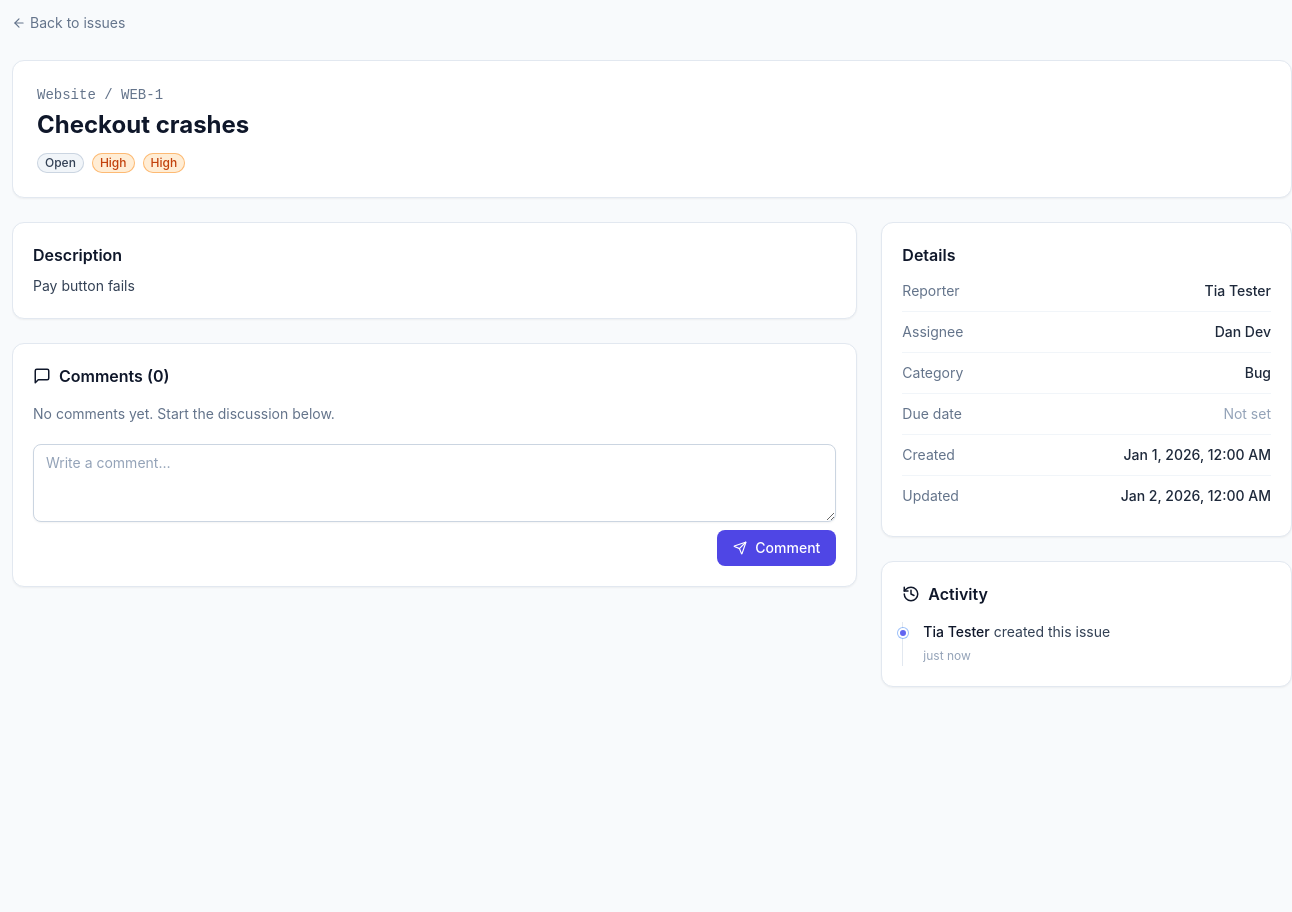
Issue details page respects capabilities › posting a comment appends it
This screenshot has width=1292, height=912.
In the text box named "Add a comment": (435, 483) [33,444,836,522], type "Looking into it"
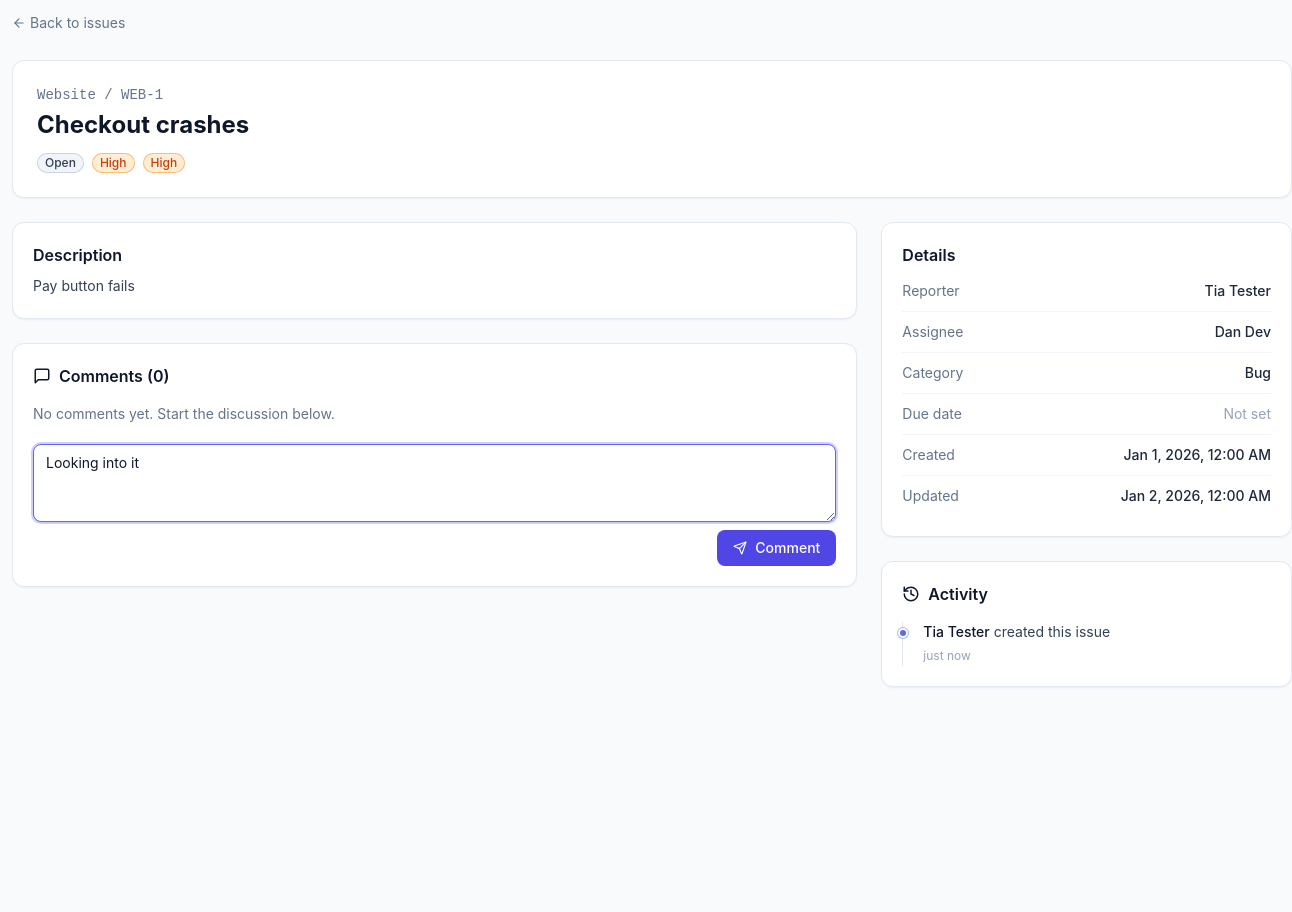
Click the button "Comment": click(777, 548) [717,530,836,566]
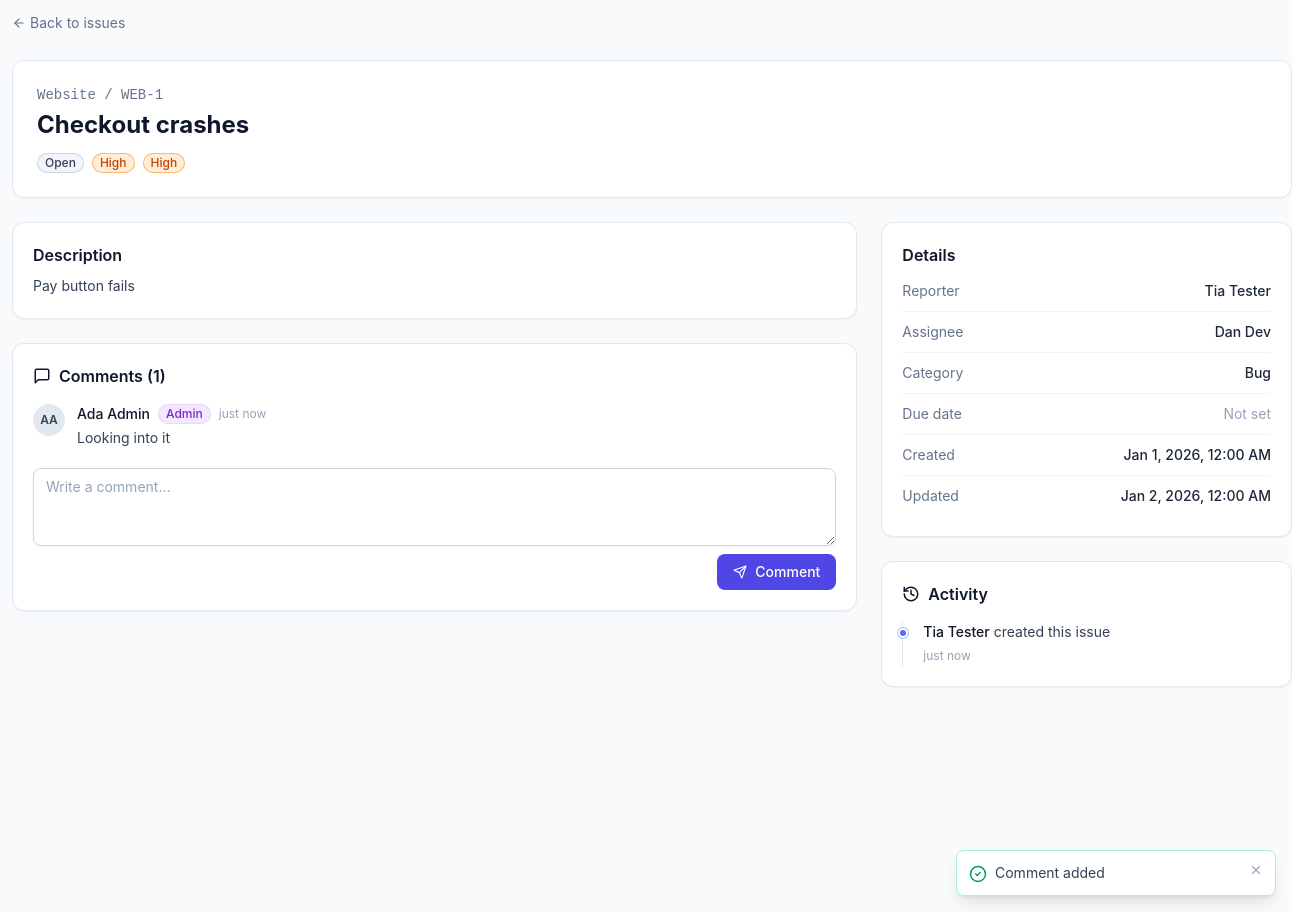
Check: the text "Looking into it" is shown, box [77,429,170,446]
